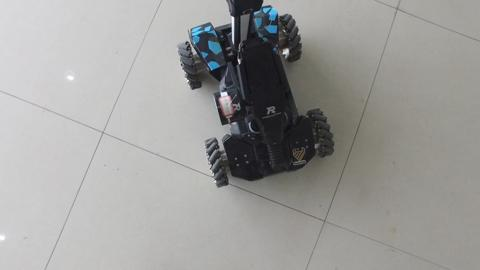chariot: (171, 5, 337, 195)
